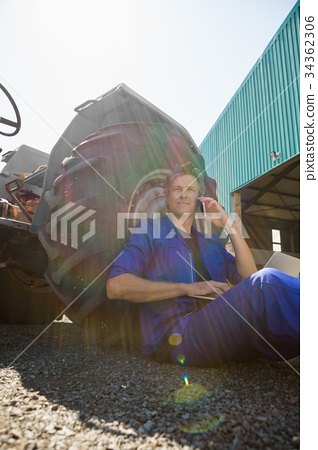phone: (197, 198, 217, 216)
talk: (169, 183, 224, 226)
